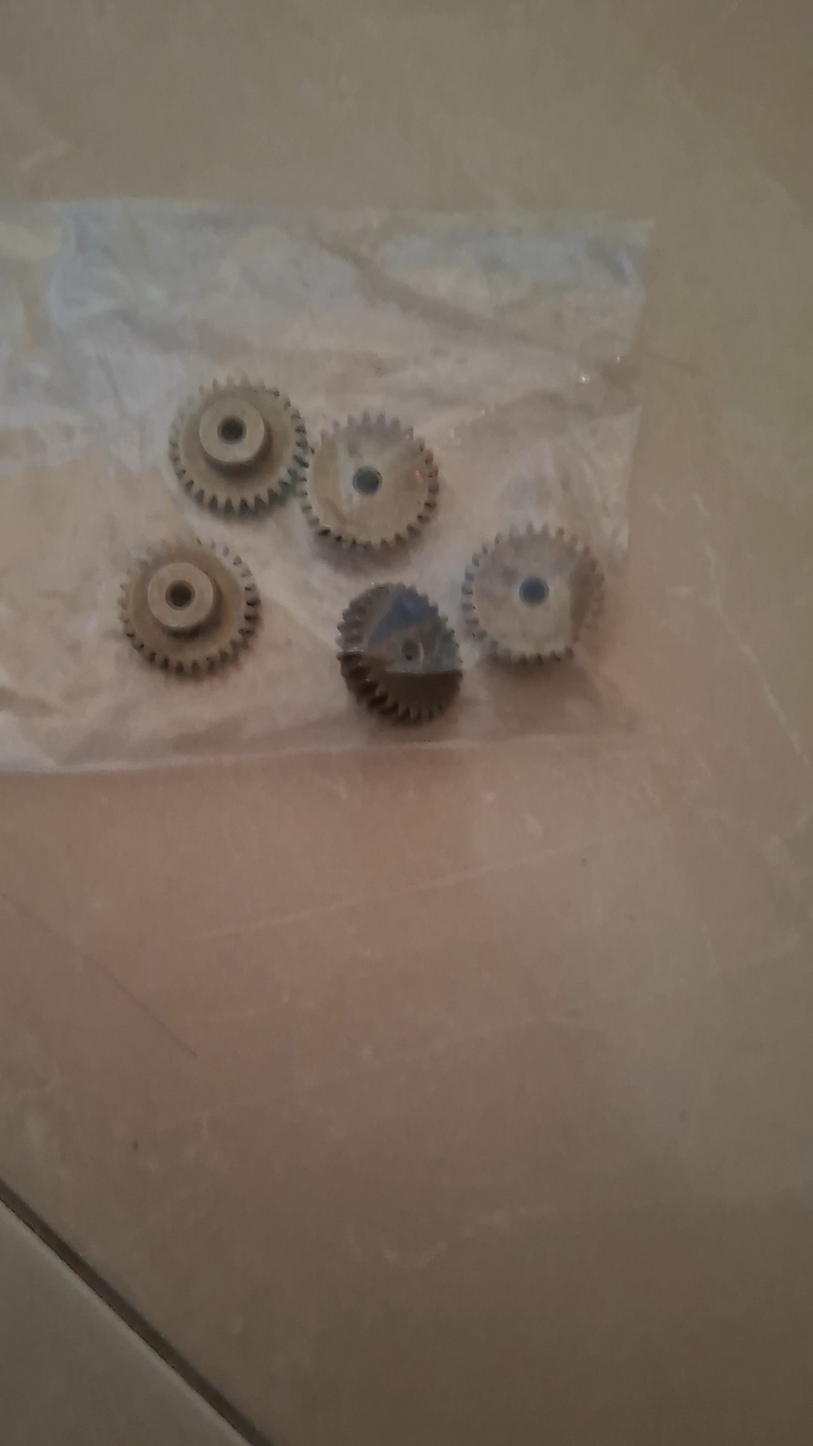spur gear: (463, 526, 603, 661), (299, 414, 438, 548), (169, 379, 308, 513), (120, 542, 259, 673), (339, 583, 461, 721)
